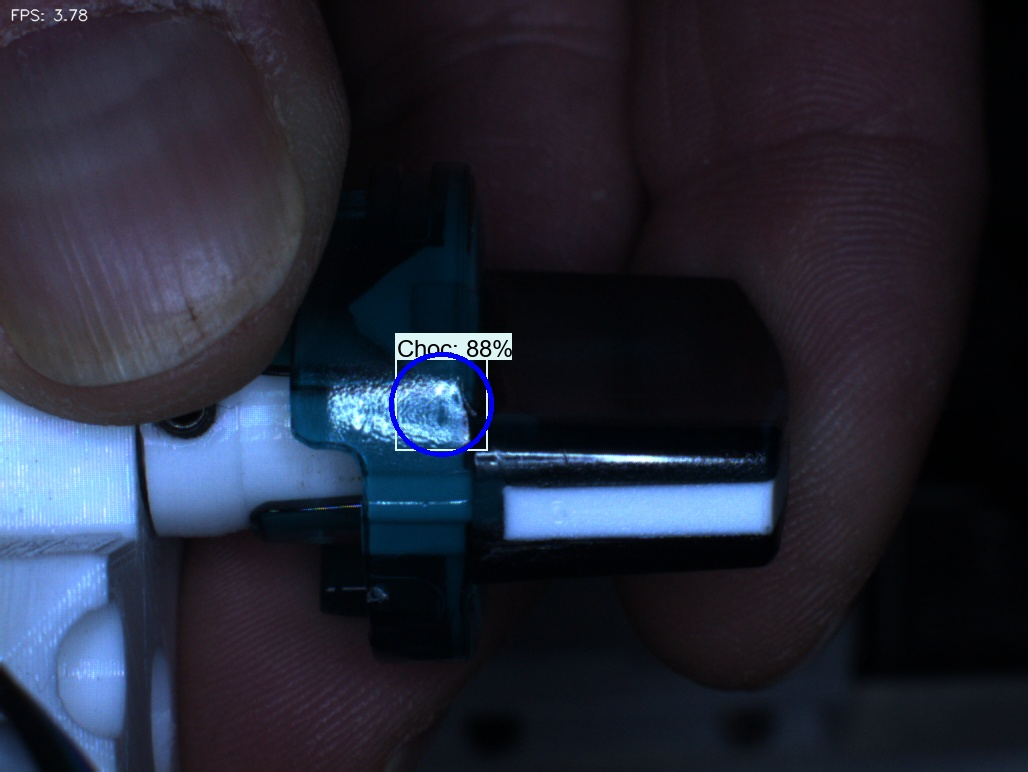DentOk: (320, 254, 398, 352)
